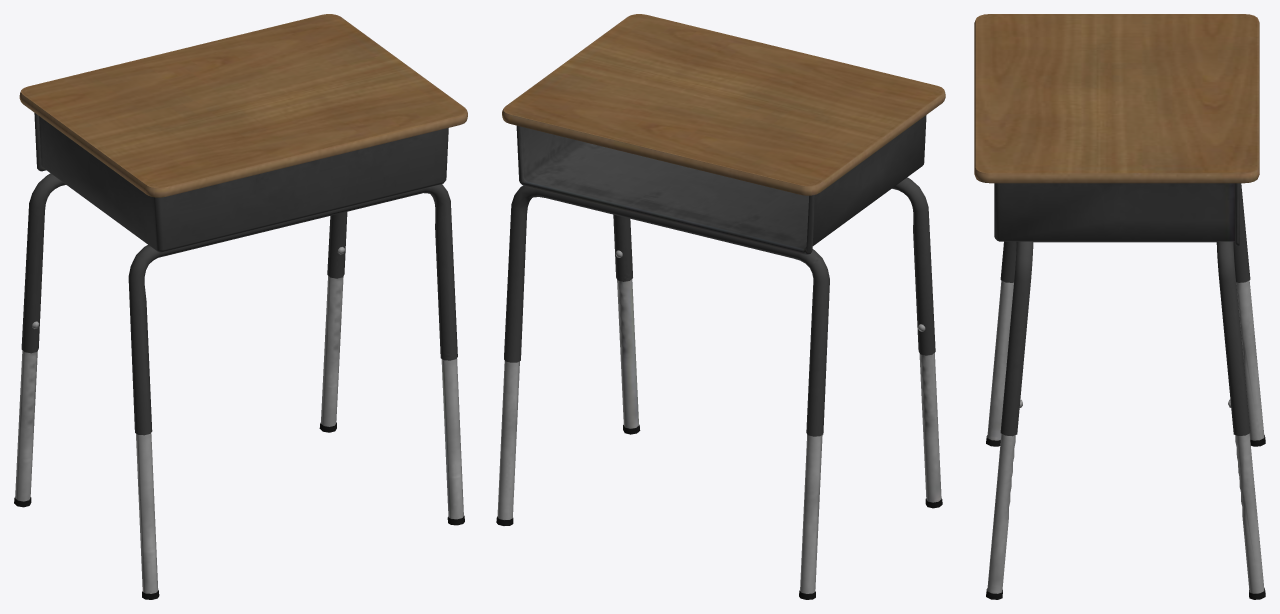
3 views of the same model, side by side, from view 1: azimuth 30°, elevation 25°; view 2: azimuth 150°, elevation 25°; view 3: azimuth 270°, elevation 25° (orthographic). The views are drawn at different scales.
Visible parts, largest first — view 1: SchoolDesk_01; view 2: SchoolDesk_01; view 3: SchoolDesk_01.
Part boxes in pixels (left/top/right/bottom): SchoolDesk_01: left=14, top=14, right=467, bottom=599; SchoolDesk_01: left=496, top=14, right=945, bottom=599; SchoolDesk_01: left=974, top=14, right=1265, bottom=599.
Bounding box in the file's own units: 0.7118 × 0.8826 × 0.546.
1 material, 1 textured.
